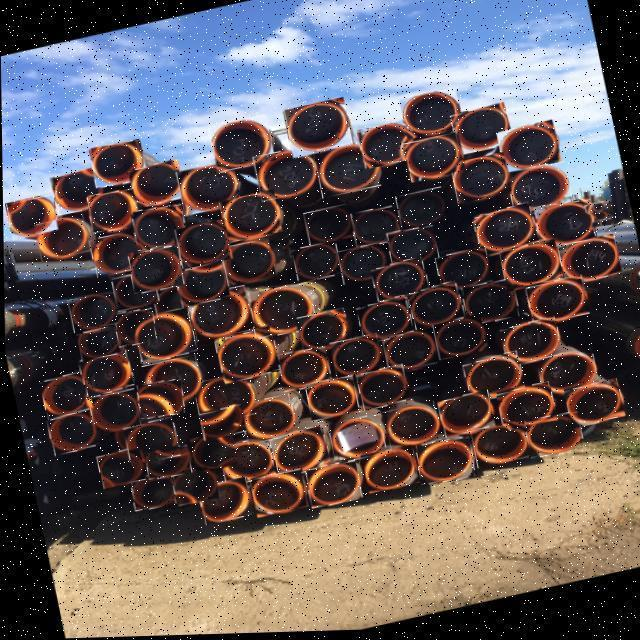pipe: (313, 140, 384, 200), (283, 100, 353, 159), (208, 117, 275, 174), (187, 286, 253, 343), (131, 309, 197, 365), (472, 205, 539, 260), (248, 285, 315, 340), (214, 329, 279, 385), (253, 148, 319, 203), (176, 162, 240, 217), (497, 123, 561, 177), (192, 373, 256, 427), (140, 355, 203, 409), (506, 165, 571, 217), (268, 427, 330, 481), (450, 105, 513, 158), (557, 237, 621, 289), (498, 243, 562, 294), (462, 354, 524, 406), (219, 193, 282, 244), (535, 351, 598, 402), (525, 279, 589, 329), (400, 91, 463, 141), (499, 320, 562, 370), (495, 384, 556, 435), (449, 156, 511, 206), (237, 396, 297, 447), (563, 382, 624, 432), (216, 437, 275, 488), (403, 135, 464, 184), (357, 121, 415, 172), (382, 403, 441, 453), (174, 220, 232, 270), (406, 284, 464, 334), (535, 204, 595, 252), (469, 423, 528, 471), (248, 471, 307, 519), (370, 260, 429, 308), (78, 349, 134, 399), (128, 160, 185, 209), (360, 447, 417, 496), (122, 418, 179, 467), (356, 297, 413, 346), (328, 417, 386, 465), (415, 440, 474, 487), (434, 249, 492, 296), (220, 239, 275, 288), (34, 214, 90, 262), (437, 393, 494, 440), (461, 282, 518, 329), (523, 416, 582, 461), (38, 371, 92, 420), (128, 247, 183, 295), (196, 479, 252, 526), (50, 168, 104, 216), (90, 141, 145, 188), (88, 231, 143, 278), (304, 463, 360, 509), (355, 366, 409, 413), (174, 263, 229, 309), (432, 317, 487, 363), (296, 310, 350, 356), (329, 335, 383, 381), (132, 206, 186, 251), (382, 331, 436, 376), (45, 410, 97, 456), (6, 195, 59, 240), (305, 378, 358, 423), (278, 348, 330, 393), (89, 390, 140, 435), (87, 190, 139, 234), (291, 242, 341, 285), (337, 244, 387, 287), (395, 190, 447, 231), (67, 291, 117, 333), (351, 208, 401, 250), (386, 228, 438, 268), (95, 447, 144, 489), (303, 206, 353, 247), (189, 431, 236, 473), (172, 467, 219, 507), (112, 271, 158, 311), (136, 381, 183, 420), (130, 472, 175, 511), (76, 325, 122, 362), (198, 406, 245, 442), (114, 309, 156, 347), (144, 447, 190, 480), (151, 286, 190, 318), (592, 205, 605, 216), (594, 214, 607, 225), (600, 222, 611, 229), (584, 208, 592, 217), (592, 224, 598, 231)
